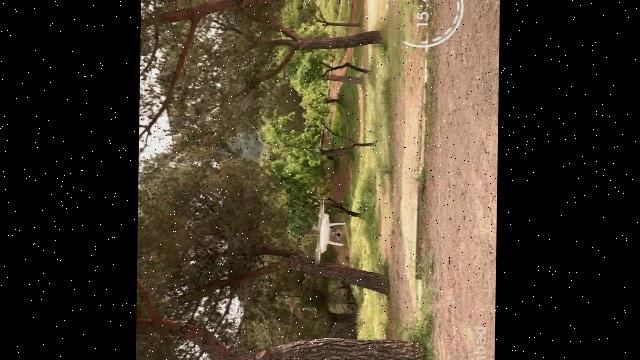drone: (312, 198, 347, 268)
